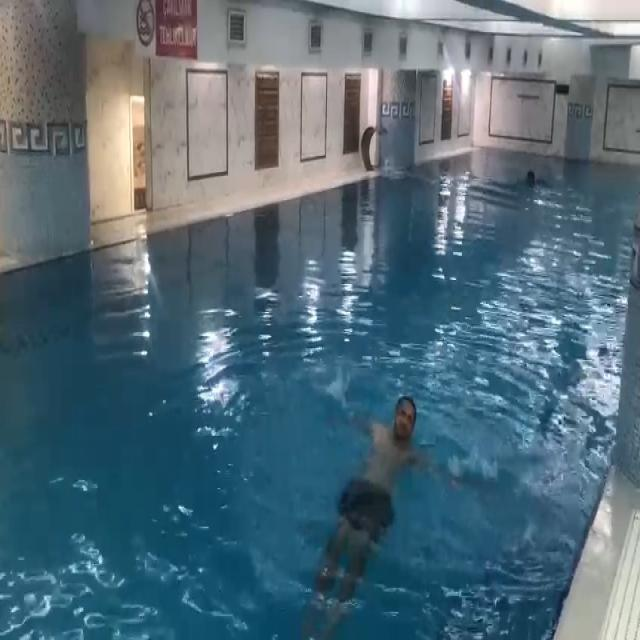Drowning: (309, 390, 419, 626)
